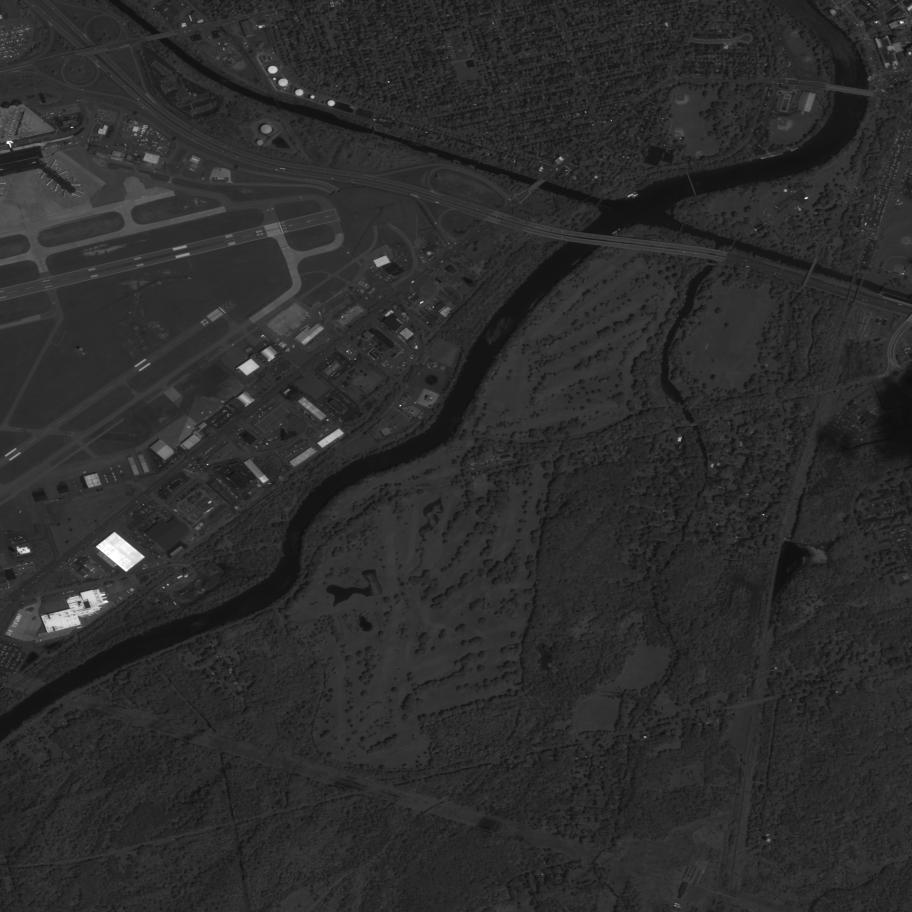plane: (186, 425, 192, 430), (263, 342, 267, 347), (106, 480, 109, 483), (112, 472, 114, 475), (83, 471, 86, 473), (104, 474, 106, 477), (110, 467, 112, 470), (113, 476, 116, 478), (118, 465, 120, 468), (105, 478, 107, 480), (115, 479, 117, 481), (120, 471, 122, 473)
storage-tank: (267, 65, 278, 75), (261, 125, 273, 134), (279, 78, 289, 87), (295, 88, 304, 96), (327, 99, 336, 107), (257, 140, 264, 146), (311, 95, 315, 99), (274, 78, 276, 80)
